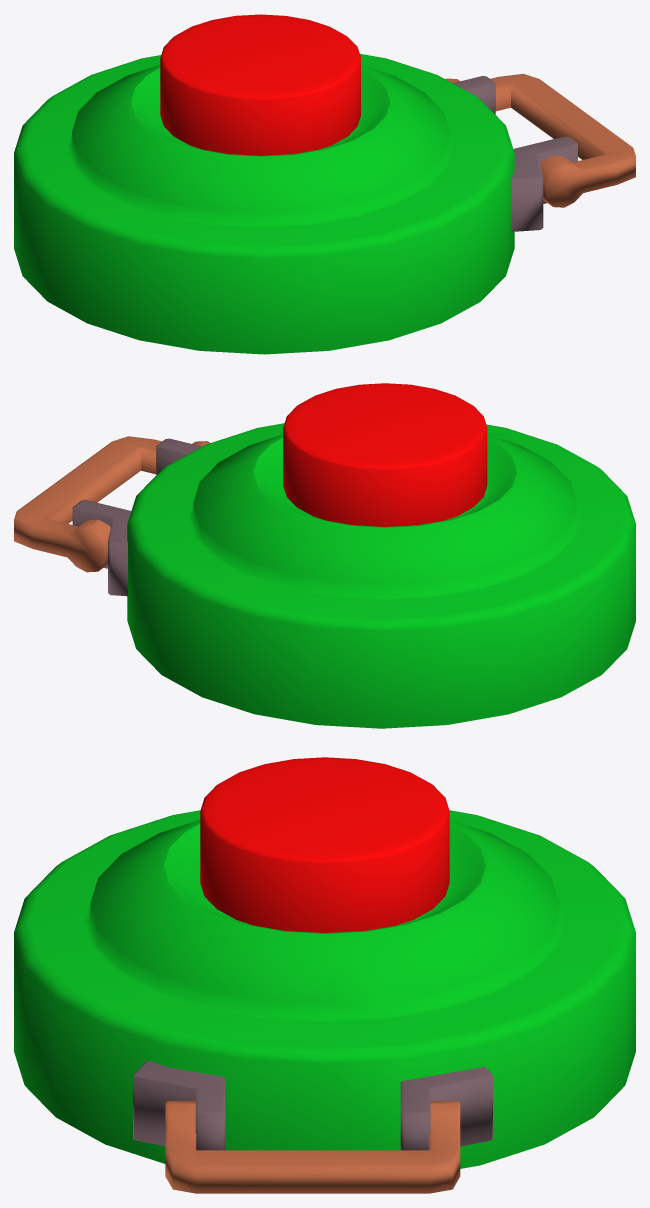
File: mine.fbx
3 views of the same model, one above another, from view 1: azimuth 30°, elevation 25°; view 2: azimuth 150°, elevation 25°; view 3: azimuth 270°, elevation 25° (orthographic). The views are drawn at different scales.
Parts seen in each view (by area): view 1: 000_0_0, 000_0_0_1, 001_0_1, 002_0_2; view 2: 000_0_0, 000_0_0_1, 001_0_1, 002_0_2; view 3: 000_0_0, 000_0_0_1, 001_0_1, 002_0_2.
Boxes of the visible parts, x1,y1,x2,y2 form: 000_0_0: (14,54,514,354); 000_0_0_1: (160,14,360,155); 001_0_1: (445,73,635,207); 002_0_2: (453,76,577,231); 000_0_0: (127,423,635,728); 000_0_0_1: (283,383,487,526); 001_0_1: (14,436,209,572); 002_0_2: (72,438,201,596); 000_0_0: (14,810,635,1168); 000_0_0_1: (200,757,449,932); 001_0_1: (165,1101,460,1193); 002_0_2: (133,1061,492,1150).
Bounding box in the file's own units: 397 × 140 × 322.
